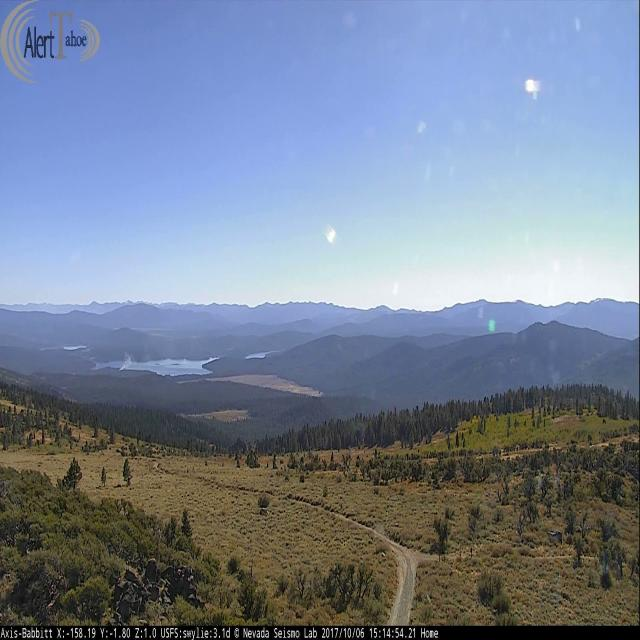smoke: (119, 331, 206, 369)
